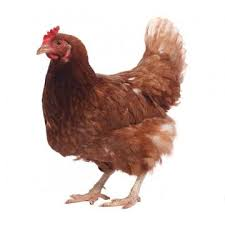chicken: (19, 8, 199, 216)
